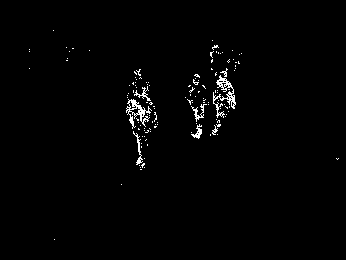person: (124, 85, 160, 171), (207, 69, 238, 135), (185, 73, 209, 140)
